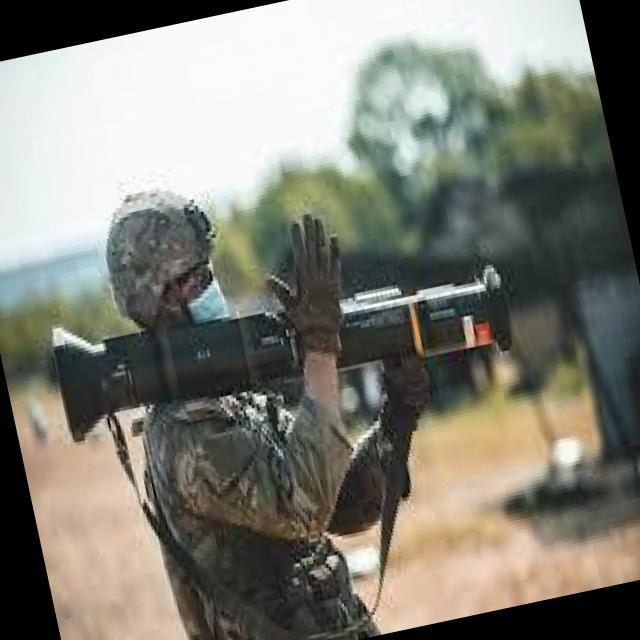rocket: (34, 227, 520, 448)
